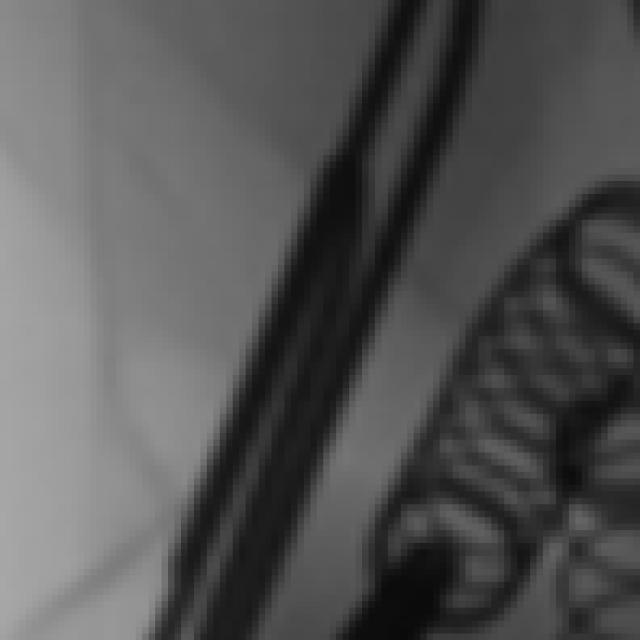SCREW: (526, 402, 640, 630)
